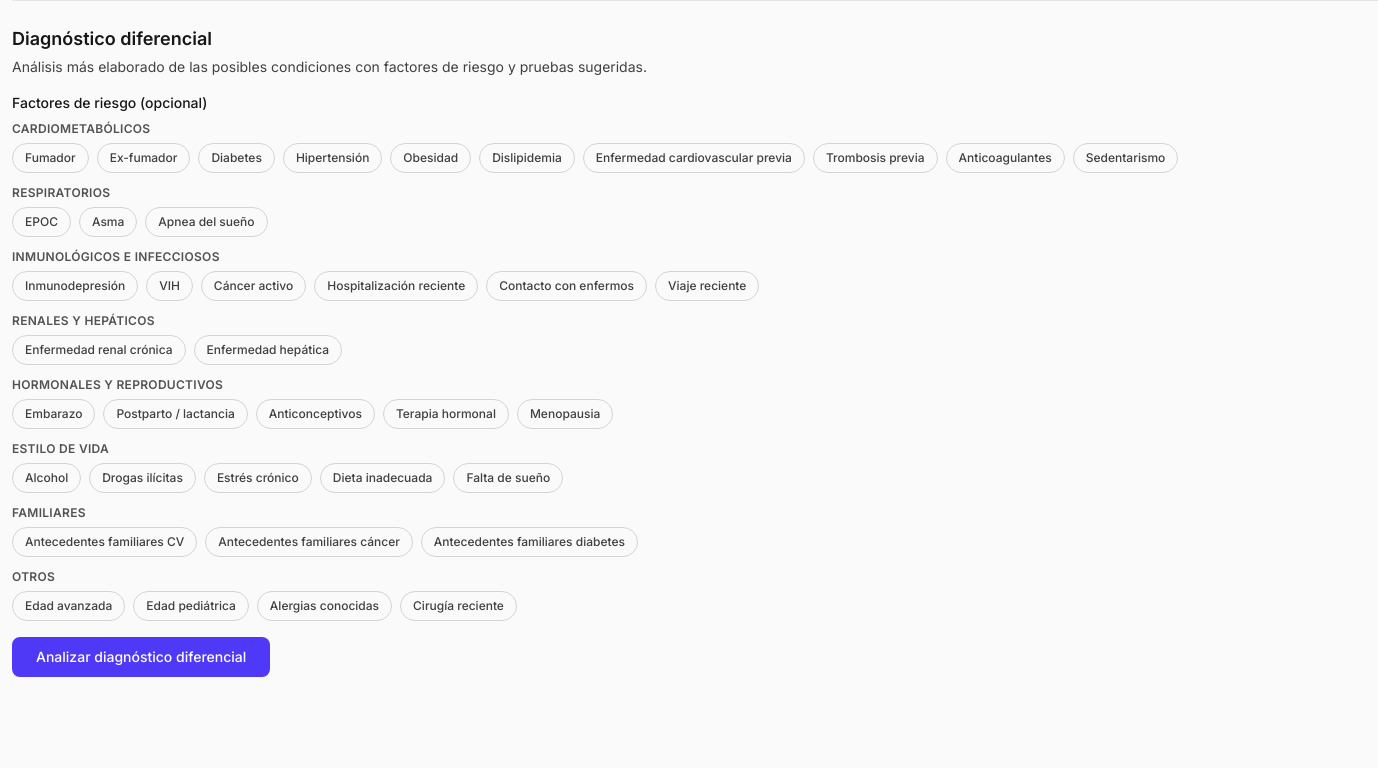
DifferentialSection › envía los factores de riesgo seleccionados
Click the button "Fumador".
click(50, 158)  # box [12,143,89,173]
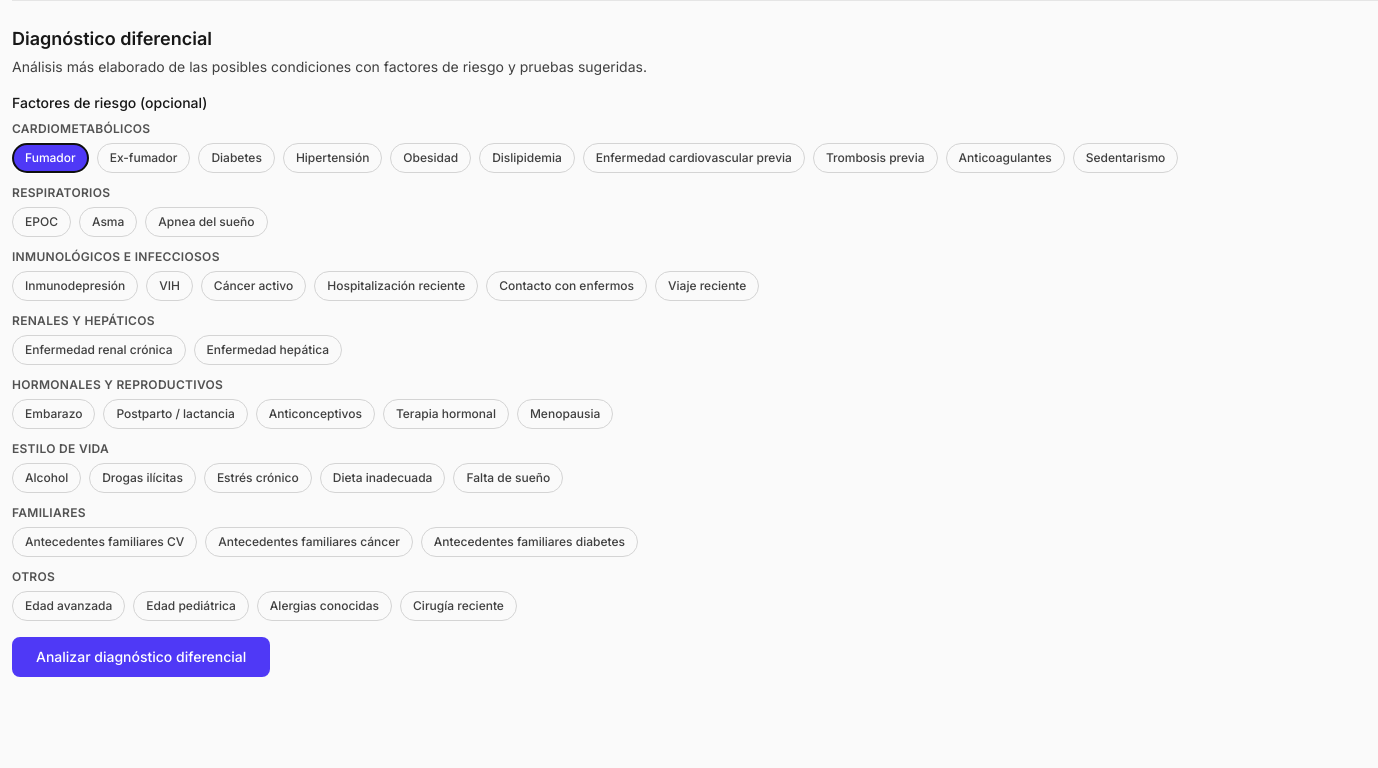
Click the button "Analizar diagnóstico diferencial".
click(141, 657)  # box [12,637,270,677]
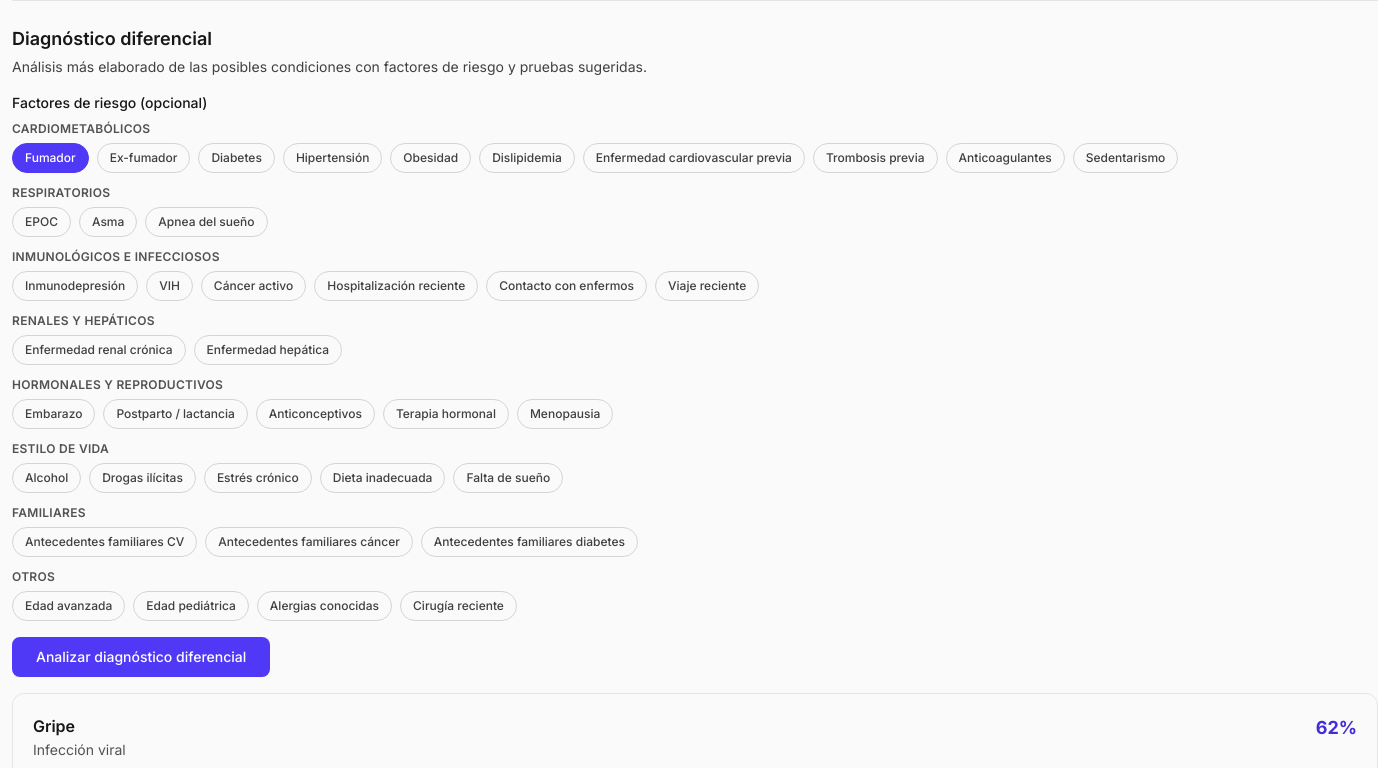
Check: the heading "Gripe" is shown, box [33,716,75,736]
